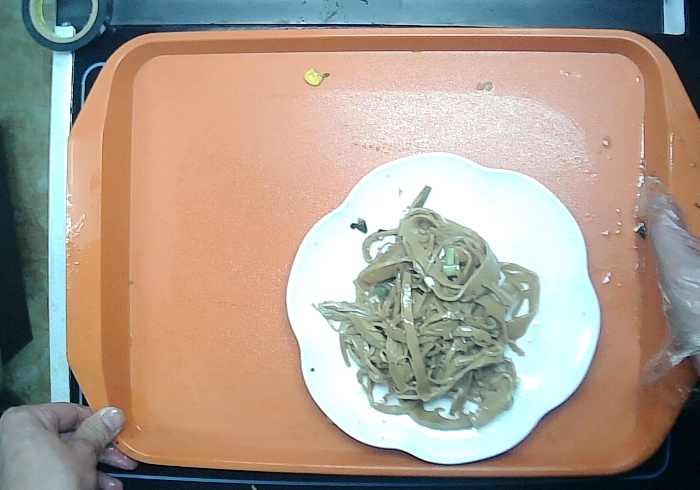HZYJPL-Bai_Se_Hua_Duo_Wan: (283, 149, 604, 468)
